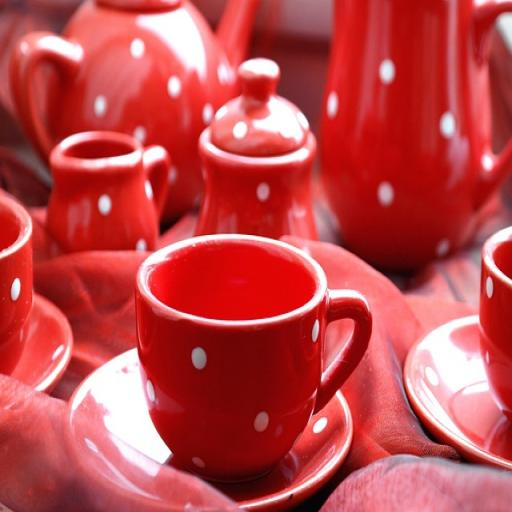phone: (135, 234, 373, 482), (48, 129, 169, 254), (480, 226, 512, 424), (0, 187, 32, 345)
